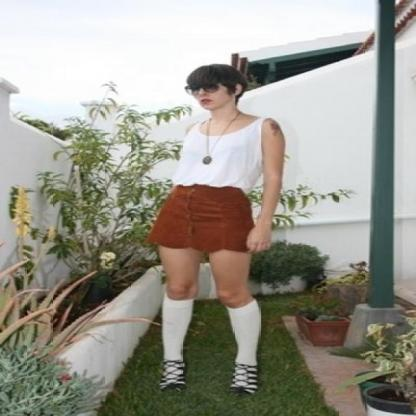shirt: (172, 125, 261, 186)
shoe: (160, 358, 256, 402)
skirt: (141, 184, 255, 257)
